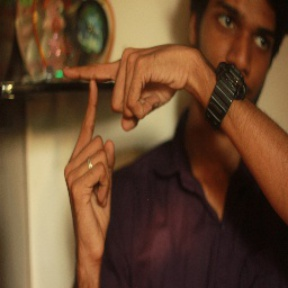T: (49, 42, 141, 171)
